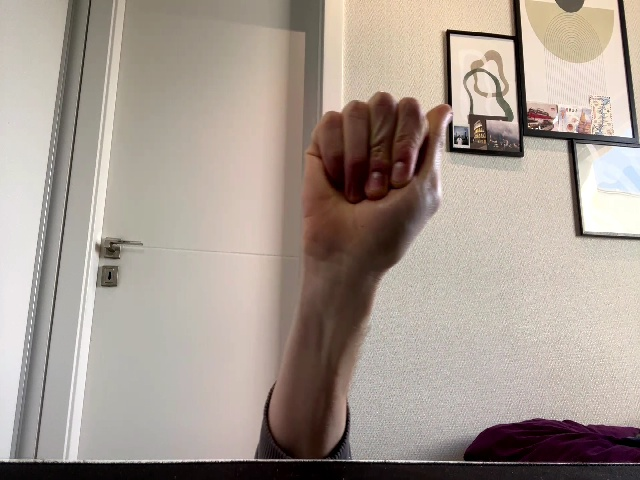A: (301, 92, 453, 266)
